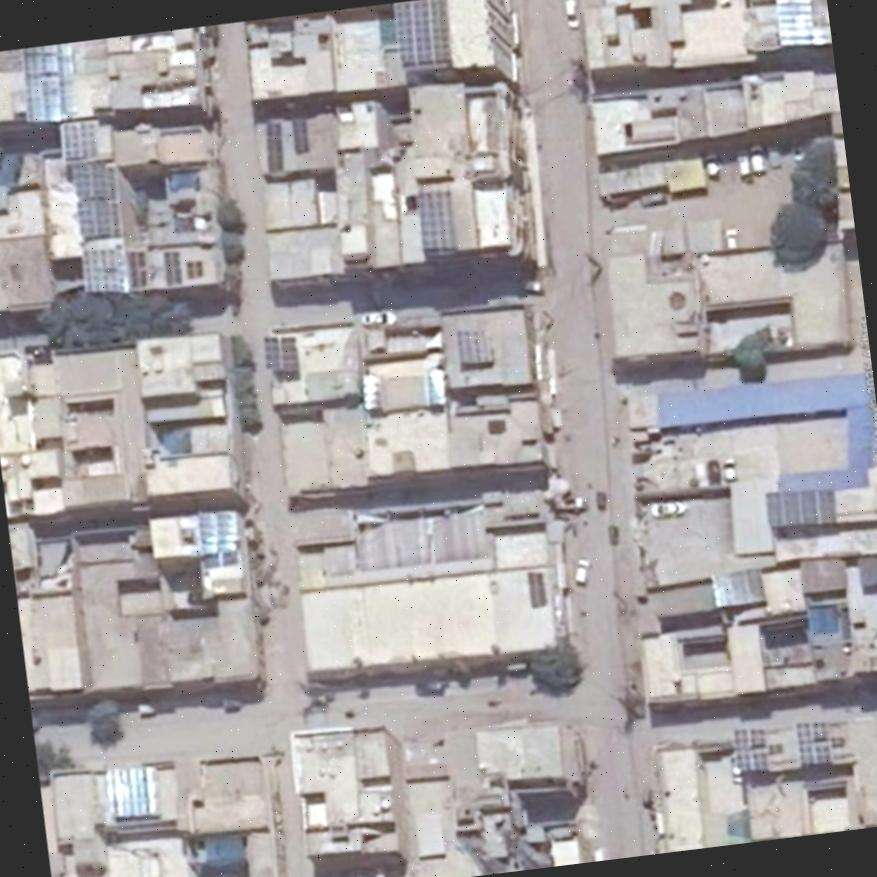Solarpanel: (24, 43, 73, 119), (396, 0, 449, 62), (76, 163, 118, 237), (105, 768, 149, 817), (713, 569, 764, 606), (82, 249, 126, 290), (419, 190, 450, 247), (777, 0, 813, 44), (201, 510, 237, 551), (794, 722, 827, 765), (731, 728, 766, 768), (60, 120, 94, 160), (265, 336, 298, 370), (457, 331, 489, 362), (267, 120, 281, 169), (526, 572, 545, 606), (129, 252, 148, 286), (164, 251, 180, 281)
